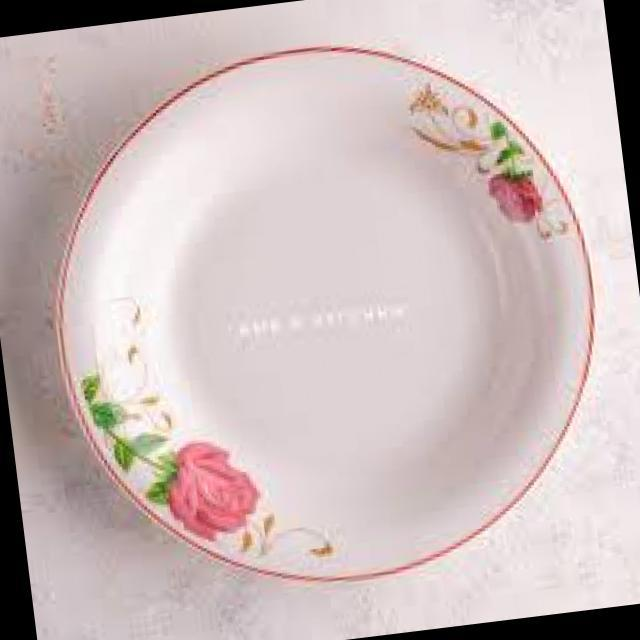plate: (54, 47, 594, 580)
